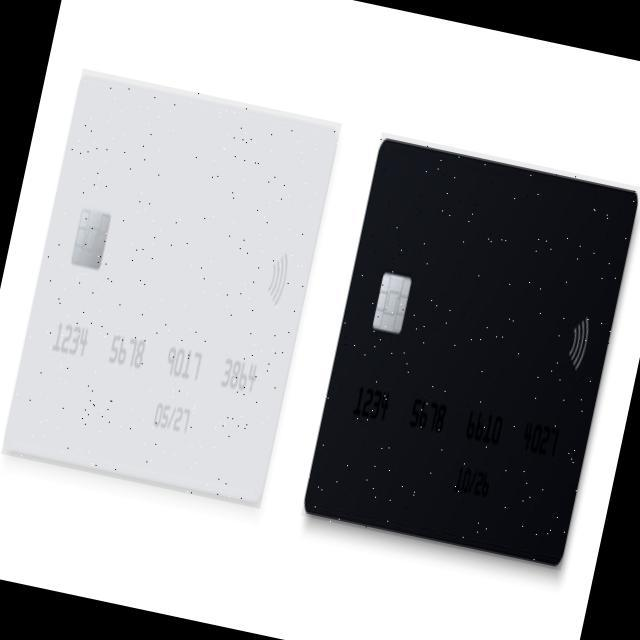payment_card: (1, 67, 342, 508), (303, 134, 638, 568)
